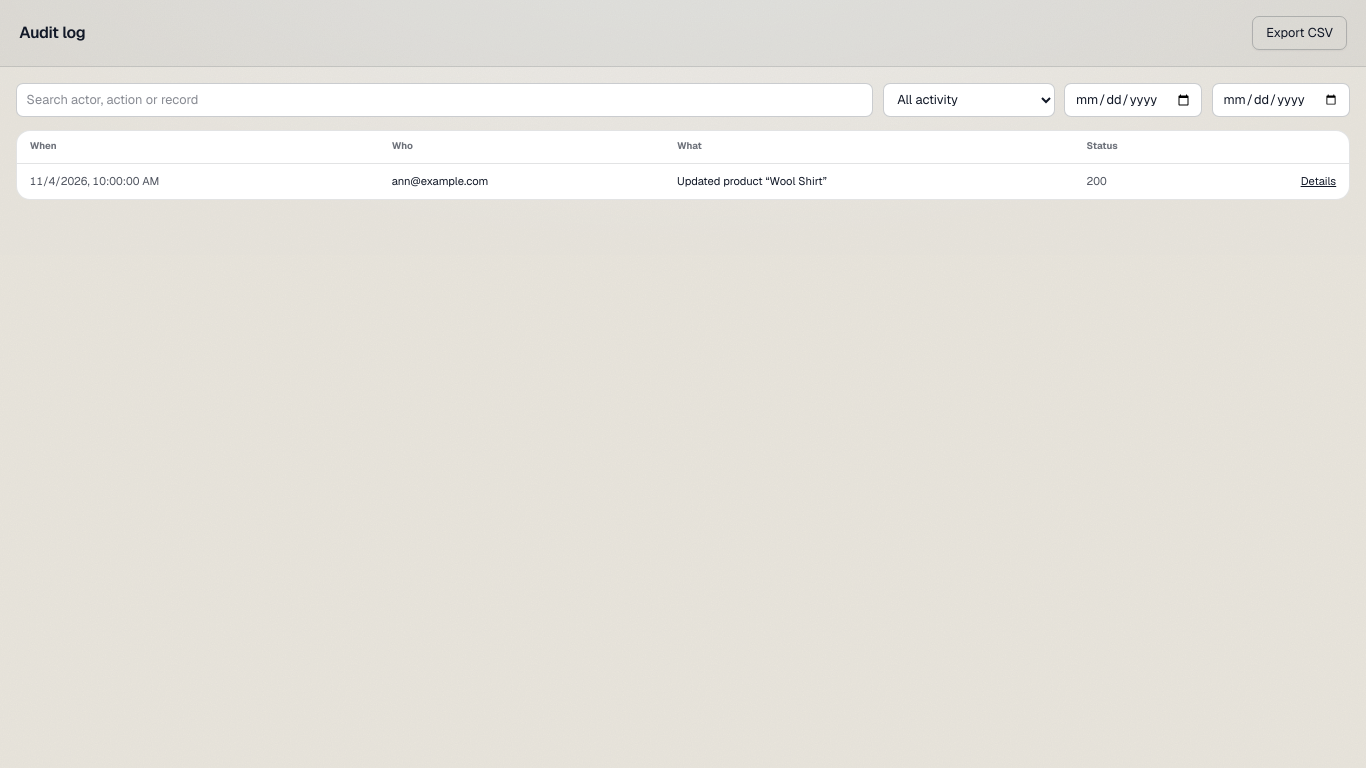
AdminAuditLog › opens one entry's detail
Click the button "Details". click: (1318, 181)
box: [1301,173,1336,189]
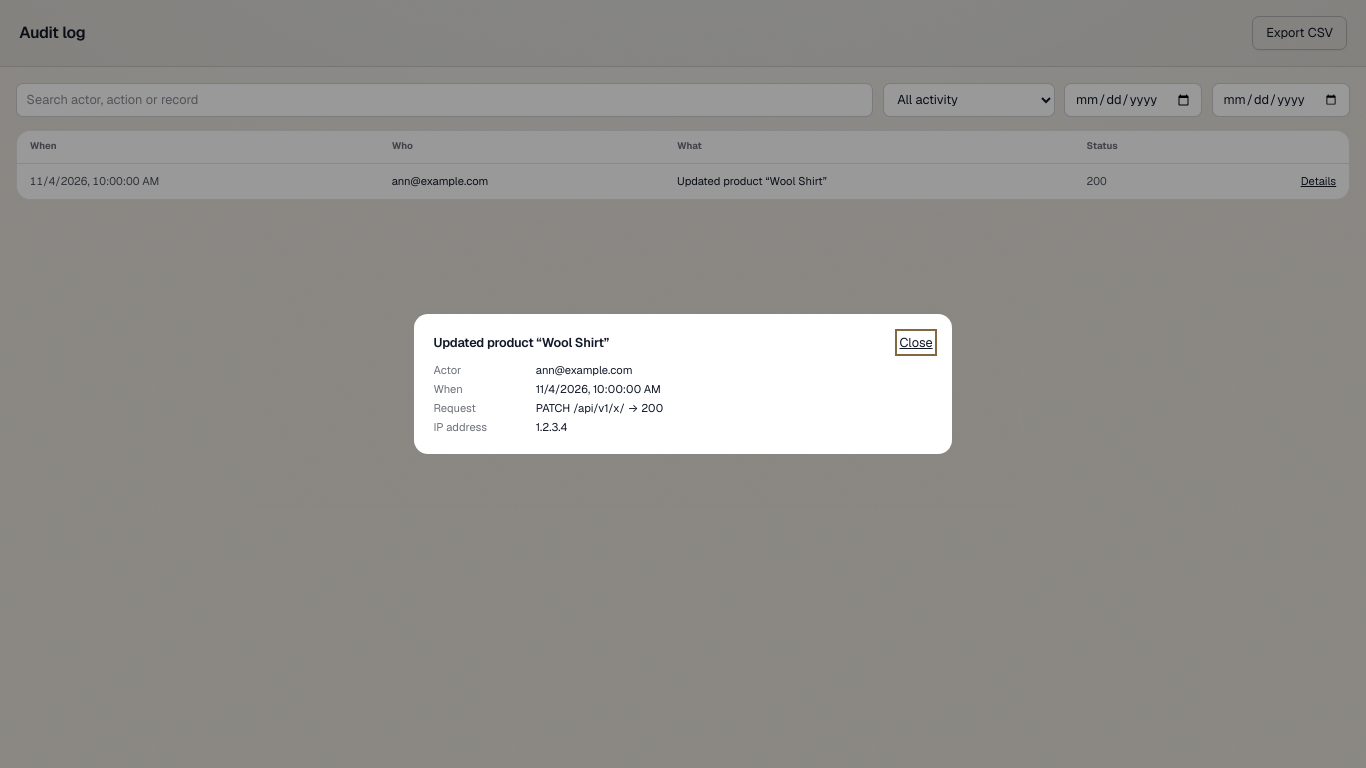
Expected: the dialog is shown
Expected: the text "1.2.3.4" is shown, [536,420,568,434]
